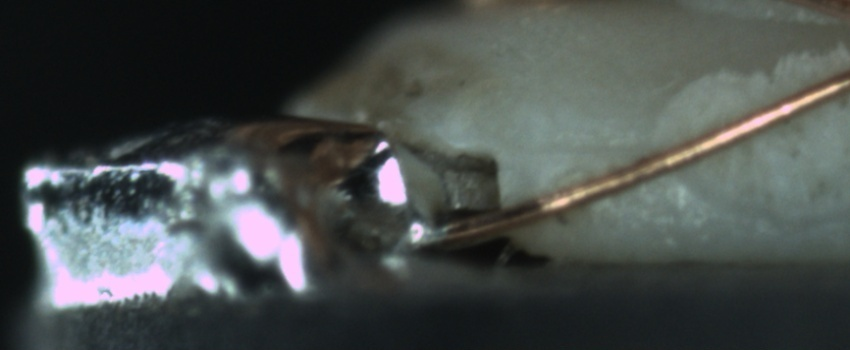DL: (528, 115, 657, 177)
